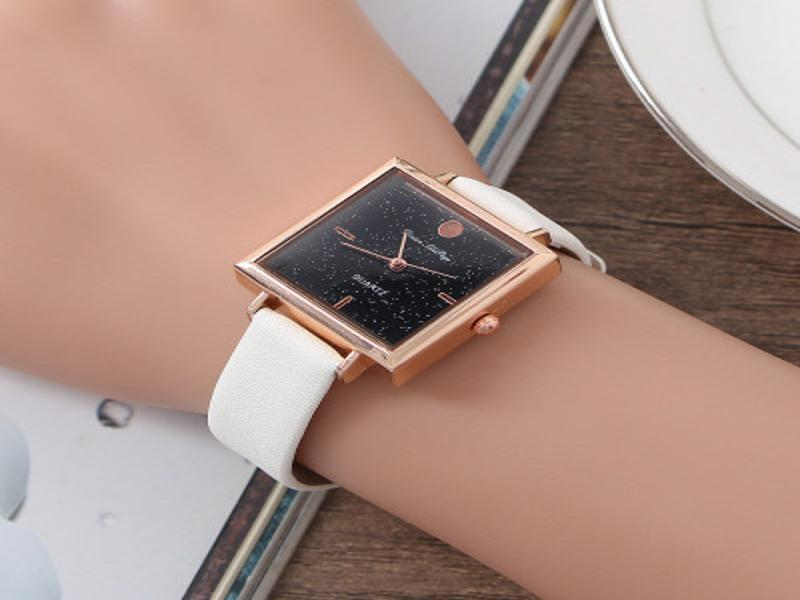watch: (190, 156, 608, 492)
